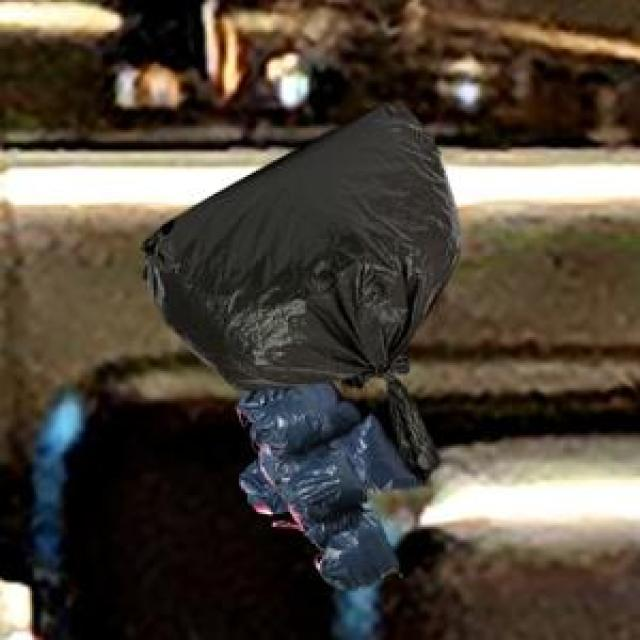Garbage_Bag: (138, 101, 460, 481), (246, 381, 396, 588), (234, 378, 422, 512)
